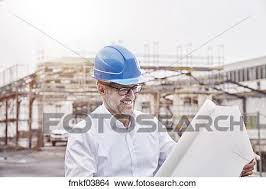Person_wearing_helmet: (87, 40, 146, 92)
